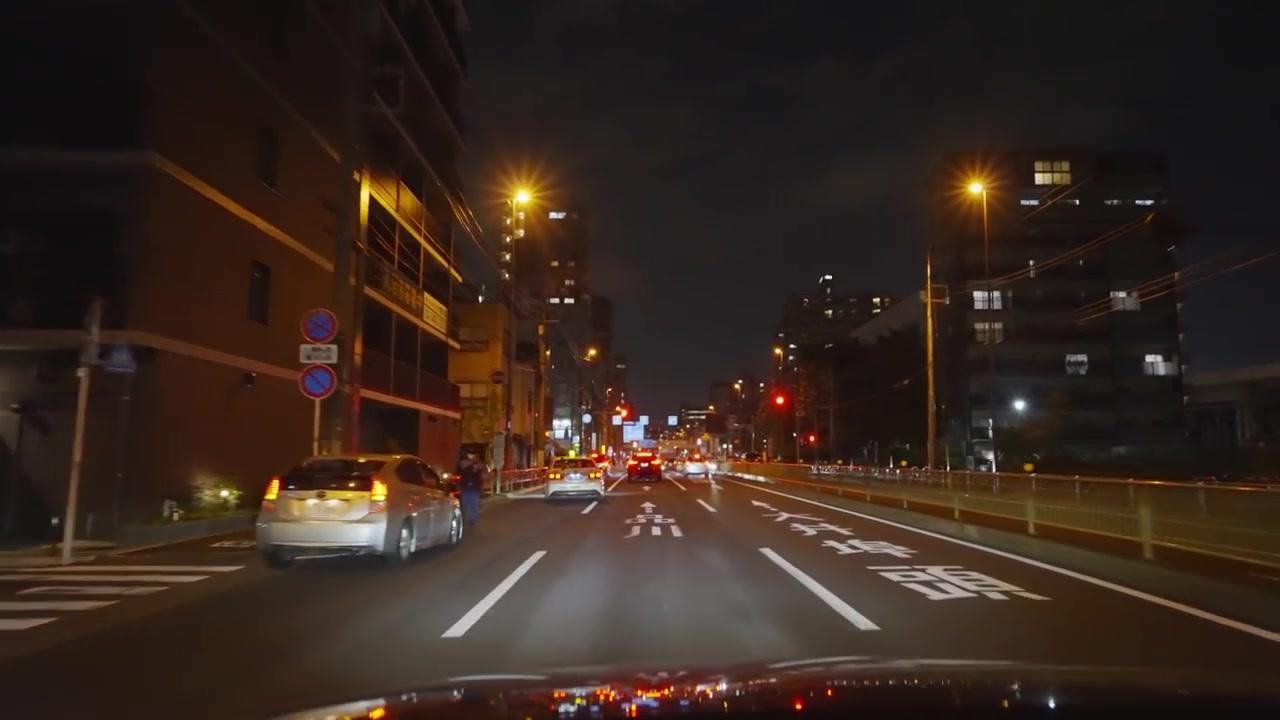car: (255, 454, 464, 571), (544, 455, 606, 502), (626, 450, 662, 482), (683, 461, 712, 478)
person: (459, 454, 485, 528)
traffic light: (773, 392, 788, 411), (802, 433, 816, 446)
